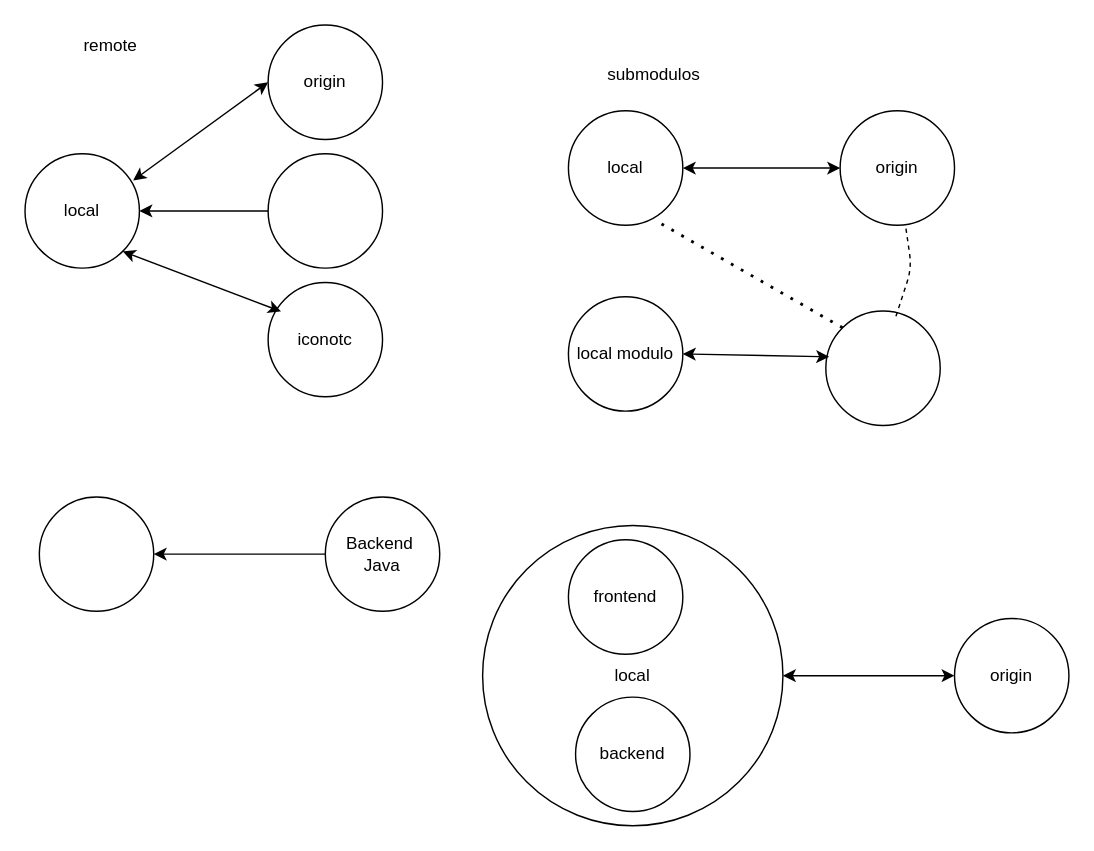
This 1094x851 diagram has some shape labels left out. The shapes that lost their labels are listed below. From the top down, each one's centre as x and y in pixels, then its label:
At (x=325, y=210): "copia1".
At (x=882, y=367): "repositorio del modulo".
At (x=96, y=553): "Angular".
